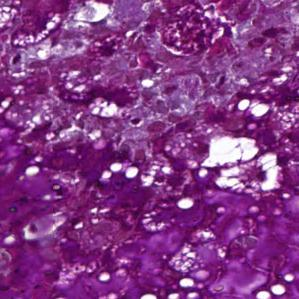ballooning: (198, 133, 285, 198)
